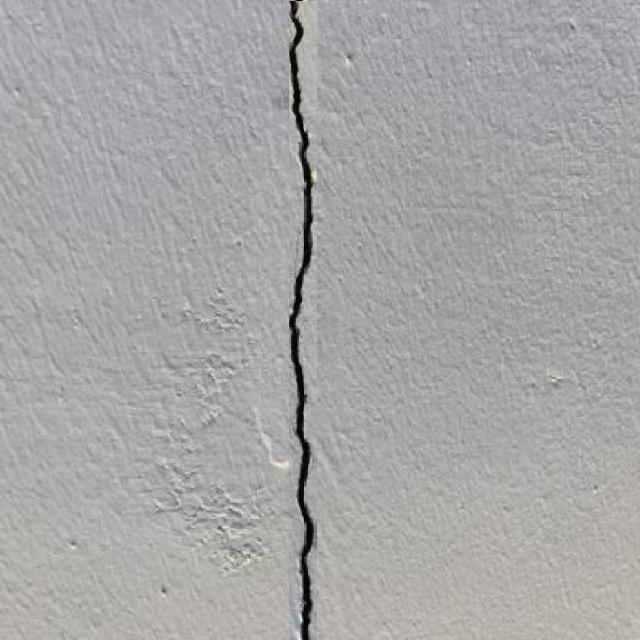vertical crack: (290, 1, 315, 640)
